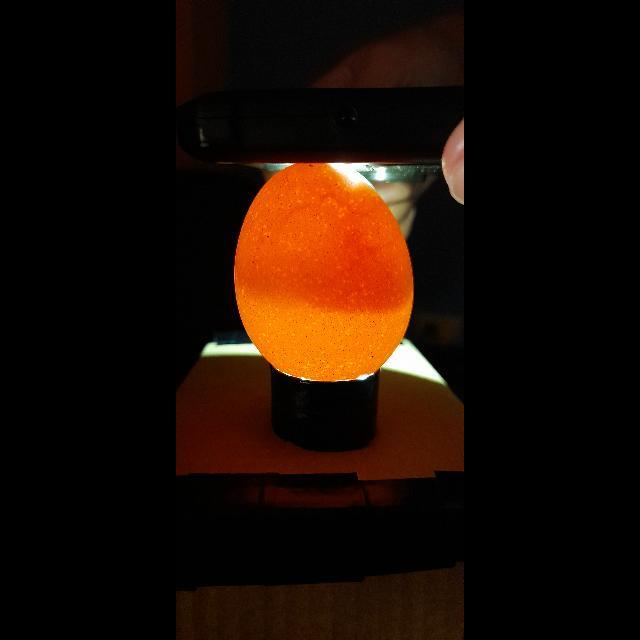Fertile: (228, 158, 422, 382)
